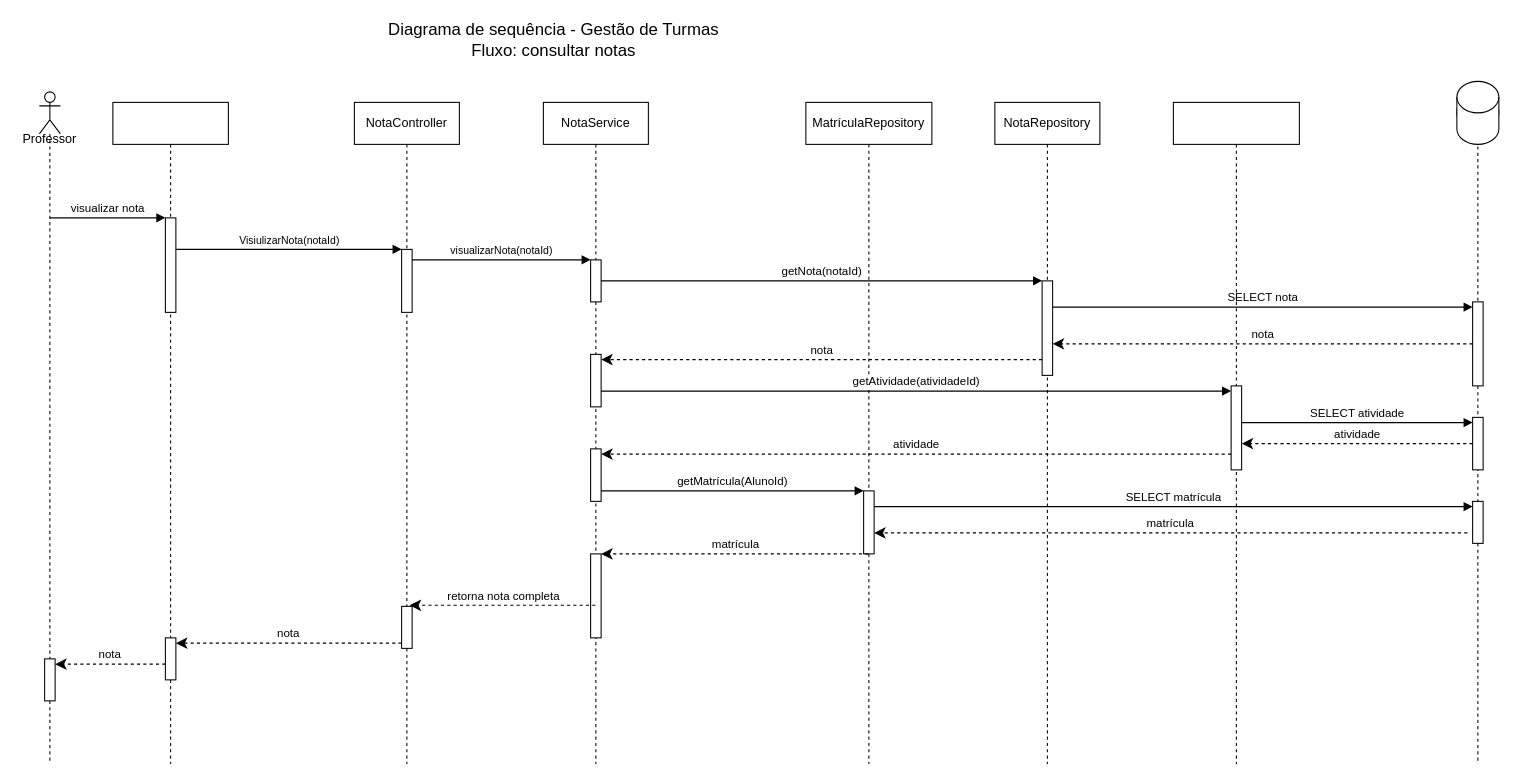
Some shapes in this 1517 by 782 pixel diagram are drawn without their labels. Here are the shapes that lost their labels. From the top down, the box of each, then its label:
(112, 101, 228, 764): LançarNota.tsx
(1172, 101, 1299, 764): AtividadeRepsoitory
